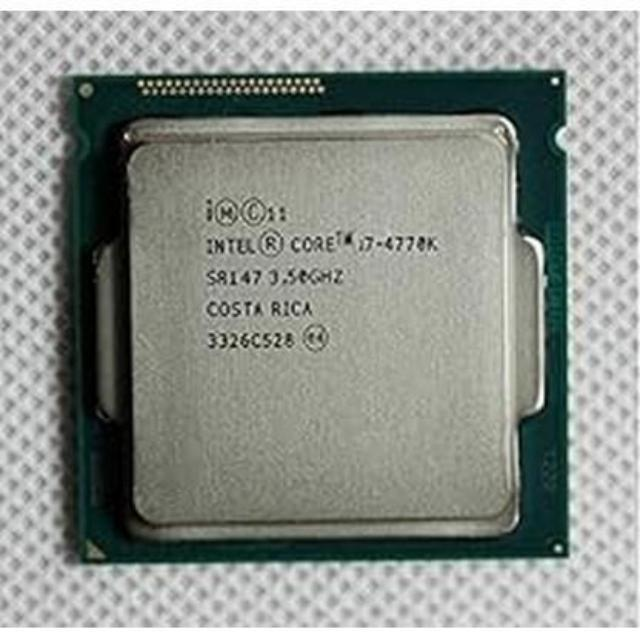CPU: (69, 85, 566, 552)
